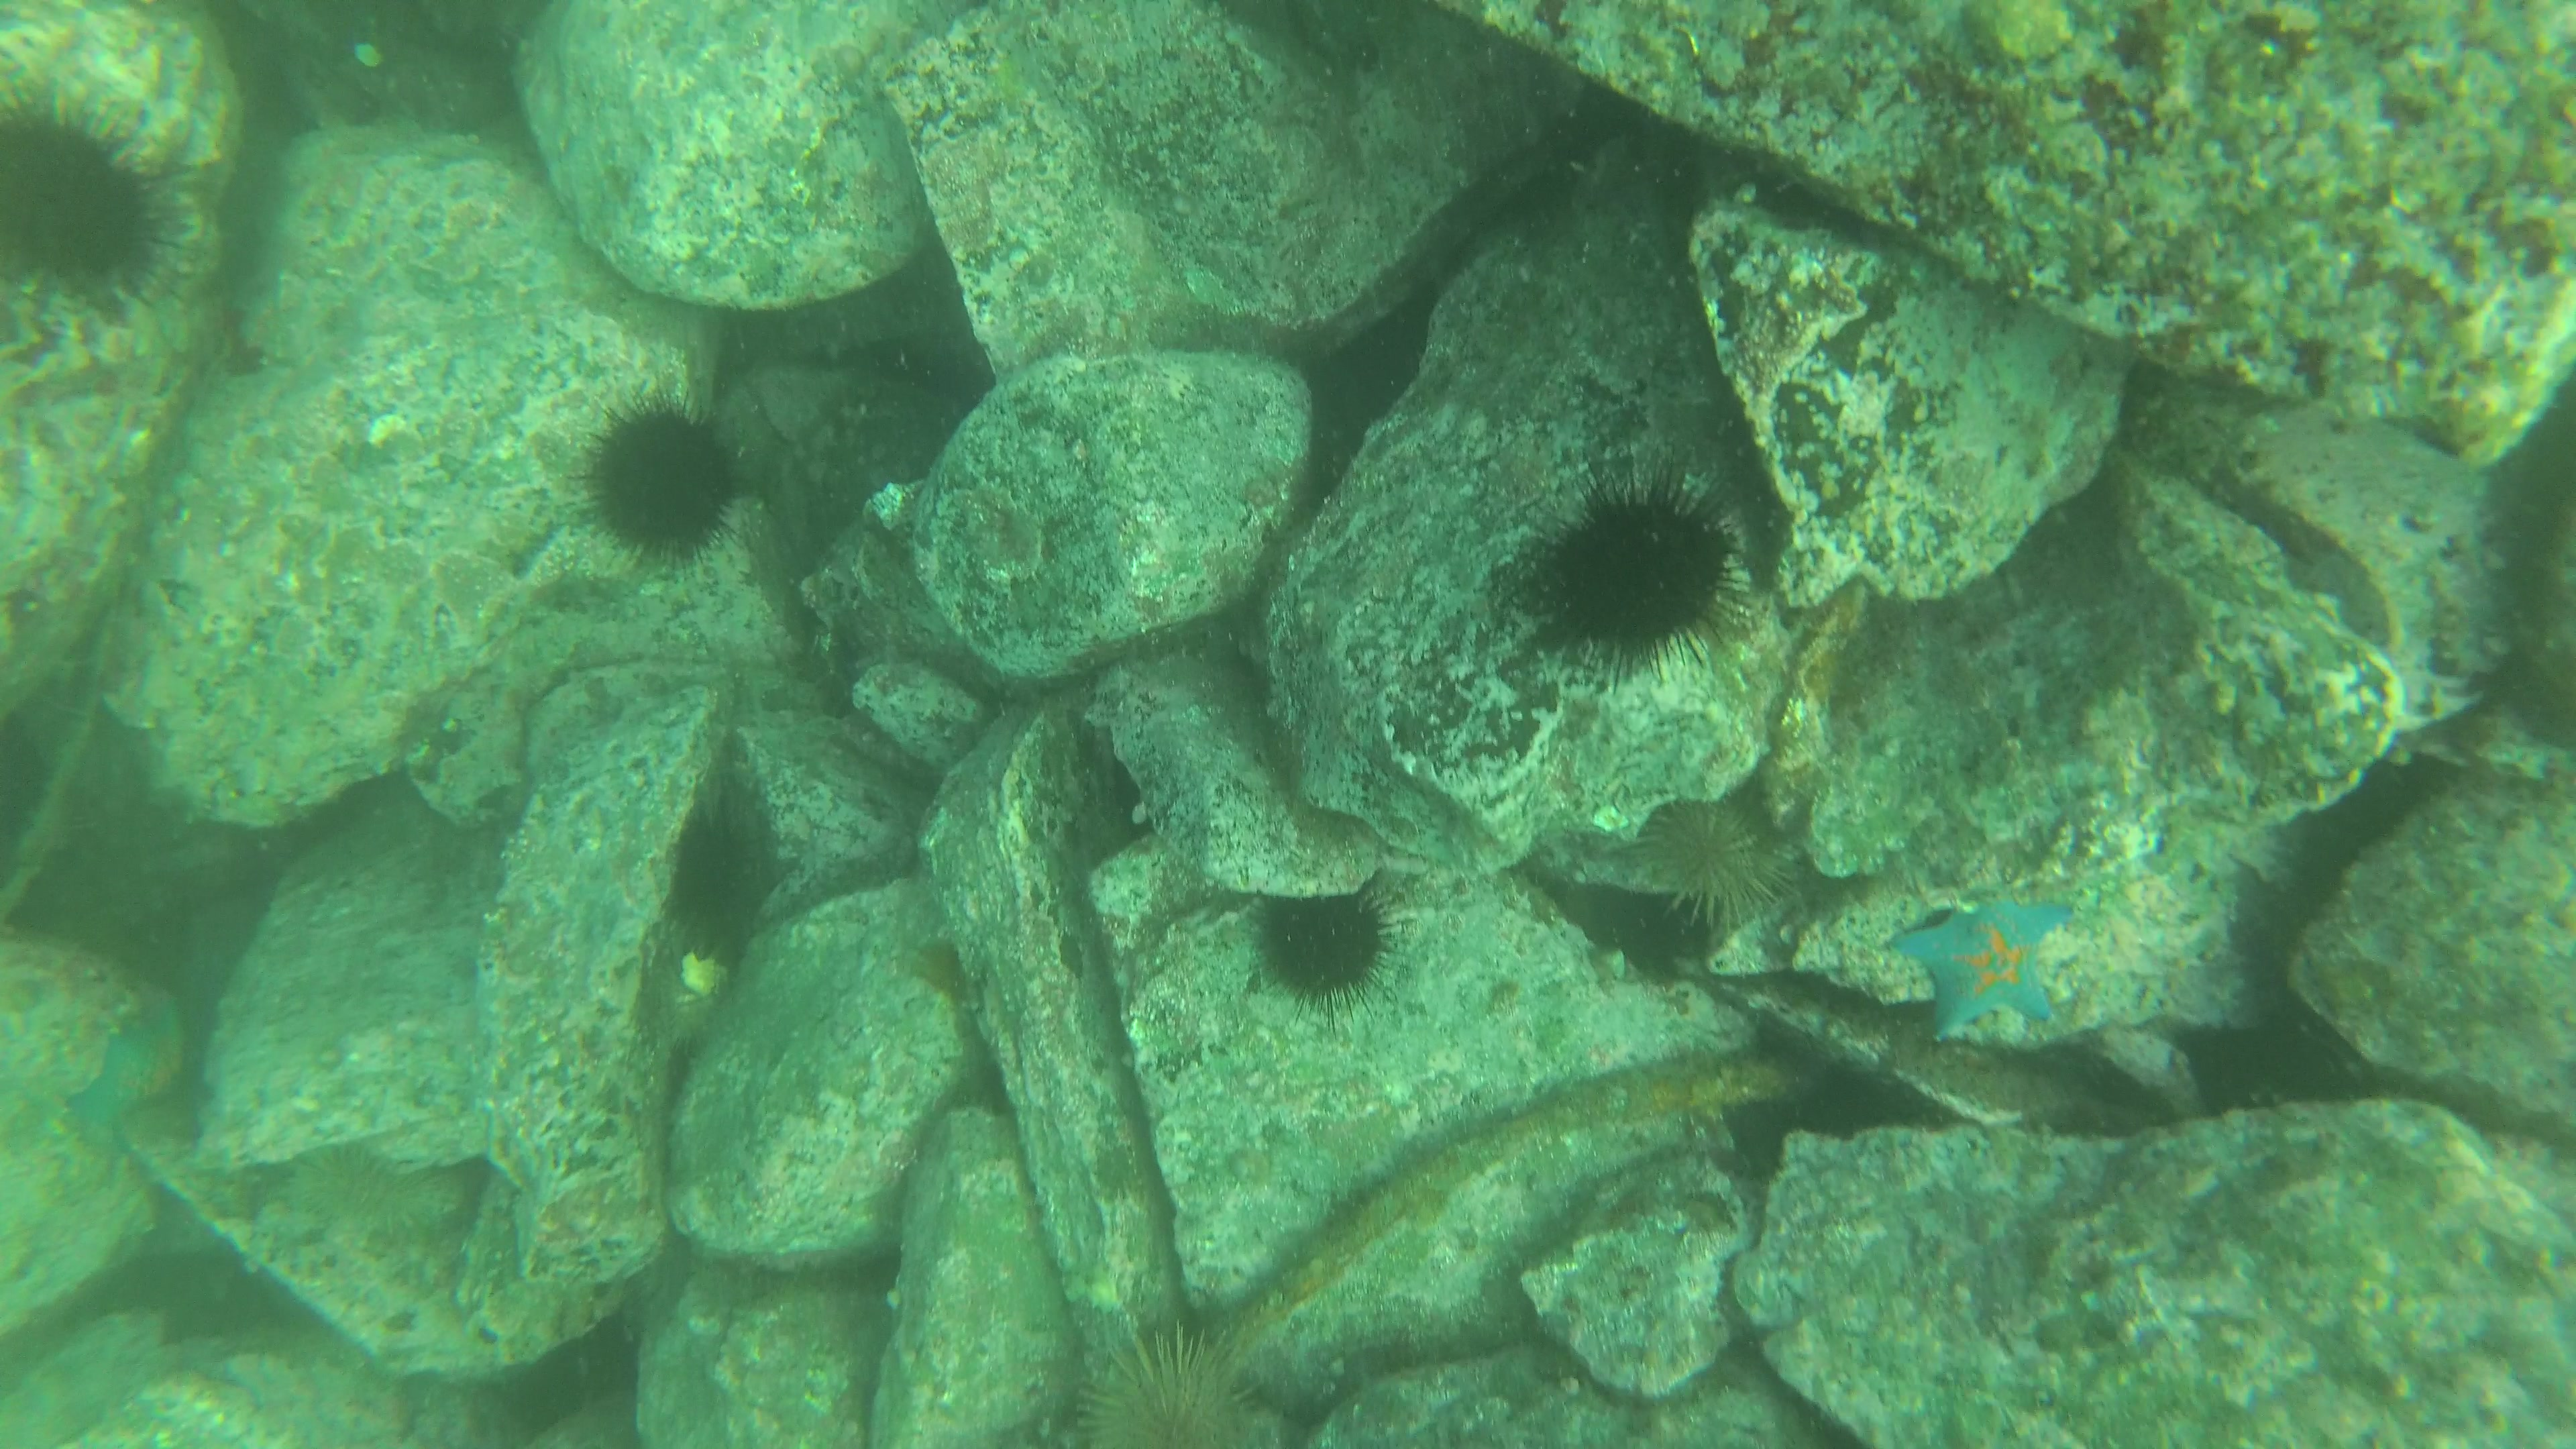echinus: (1527, 483, 1753, 676), (9, 92, 163, 272), (570, 400, 741, 559), (1622, 787, 1794, 918), (1072, 1330, 1272, 1442), (1258, 872, 1405, 1003)
starfish: (1888, 874, 2097, 1039), (78, 1033, 195, 1161)
